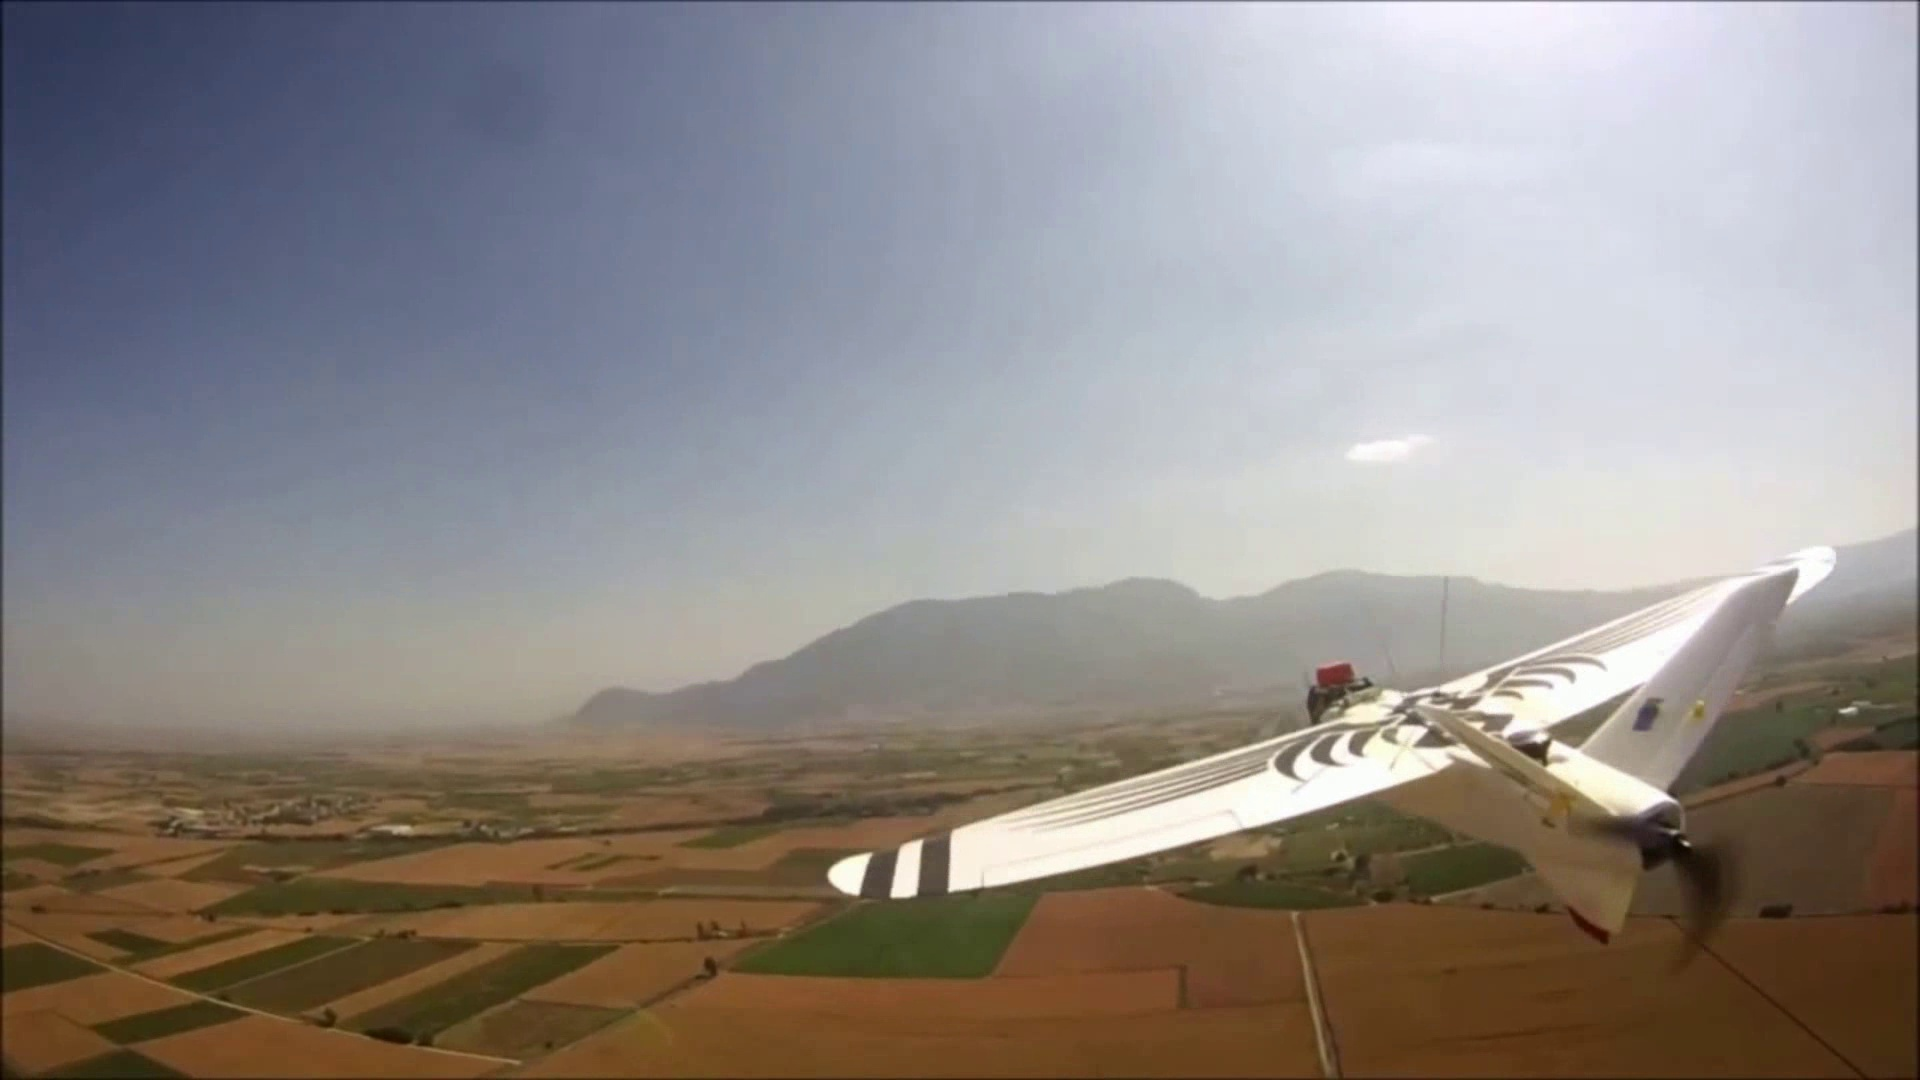airplane: (26, 551, 1885, 1060), (769, 547, 1911, 947)
